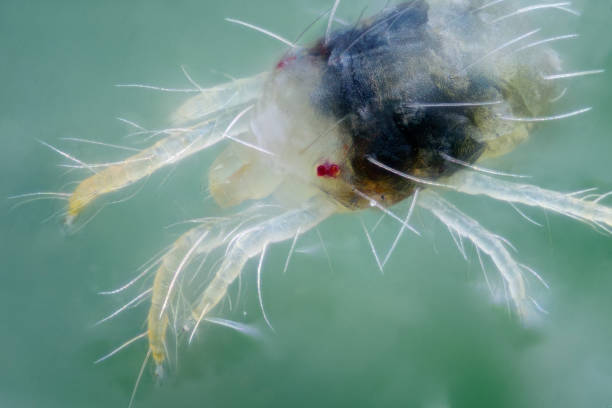Mites: (62, 11, 612, 357)
